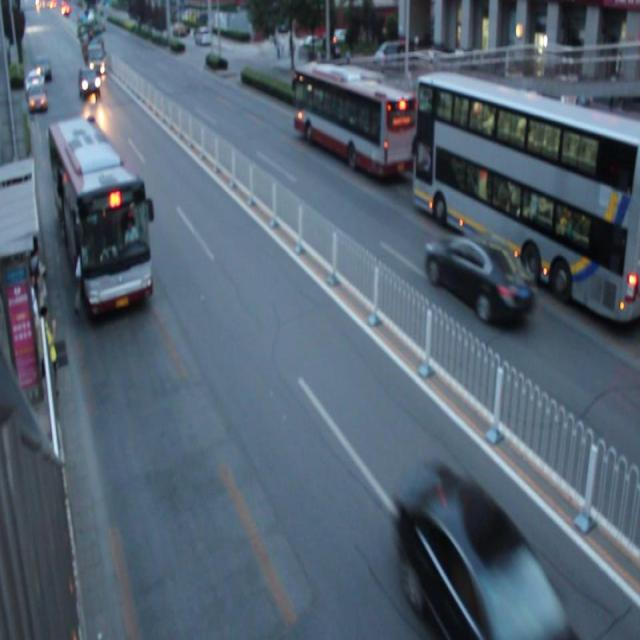car: (392, 463, 568, 640), (425, 233, 536, 325), (28, 80, 48, 112)
van: (416, 74, 640, 318), (47, 120, 154, 316), (294, 67, 413, 174)
